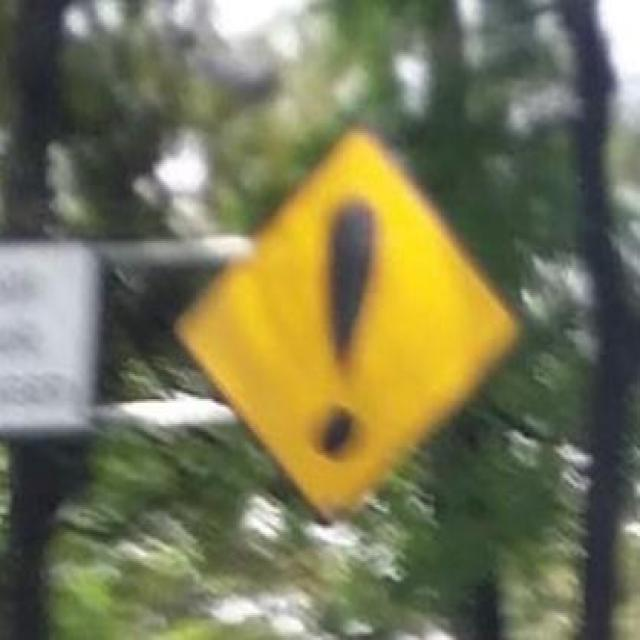traffic sign: (178, 133, 518, 520)
